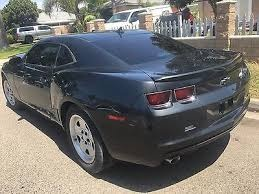Scratch: (94, 104, 123, 114)
